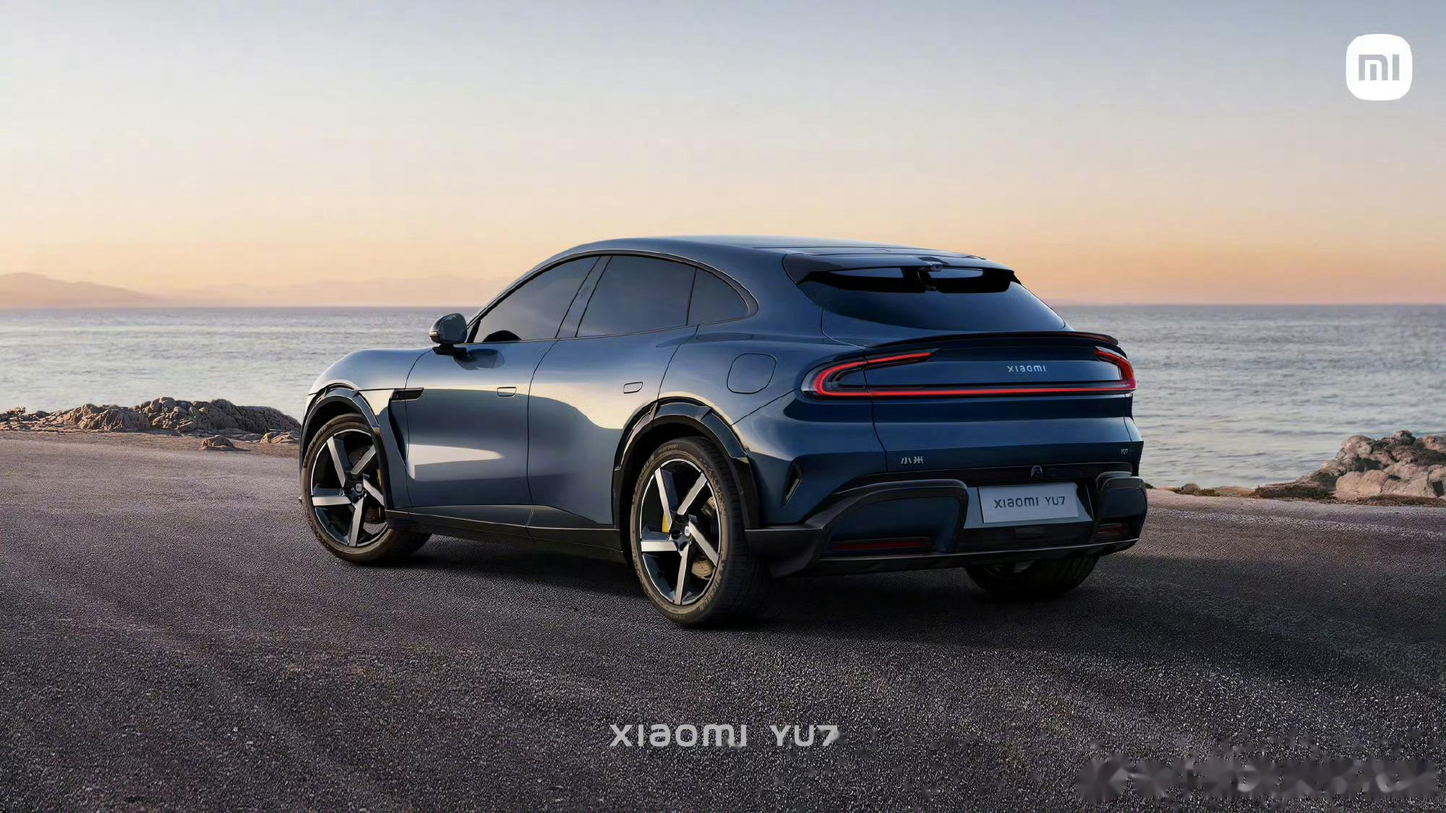other: (286, 218, 1152, 640)
